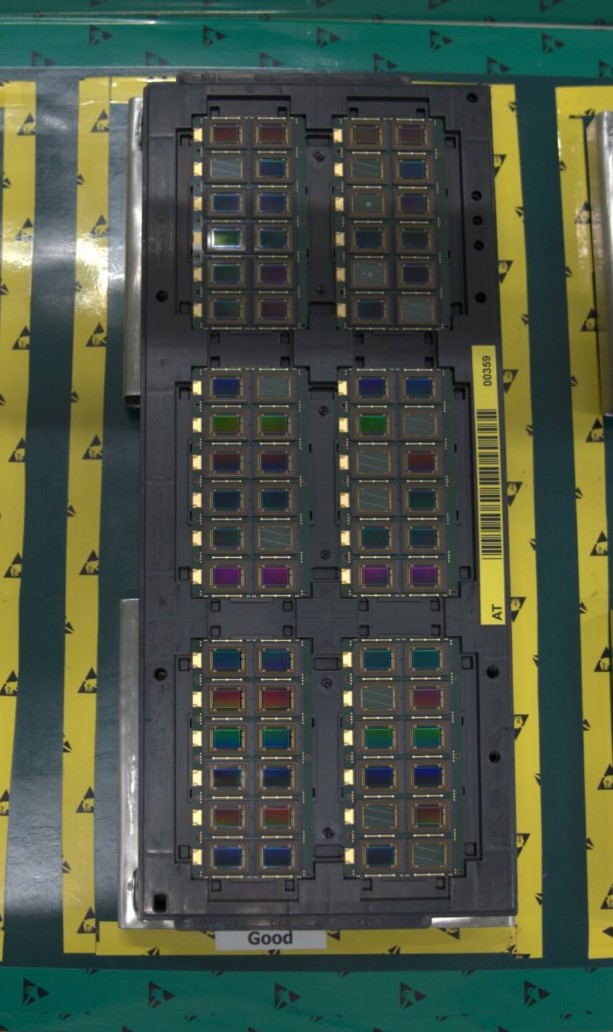Bad_mark_from_BMS_mold: (353, 798, 404, 834), (354, 680, 402, 717), (250, 369, 299, 404), (406, 836, 452, 873), (396, 405, 442, 441), (349, 444, 396, 479), (251, 521, 298, 556), (201, 151, 249, 185), (394, 292, 440, 327), (350, 483, 397, 517), (344, 151, 387, 185)
Bad_mark_from_Maker: (345, 256, 390, 291), (345, 185, 390, 217)
